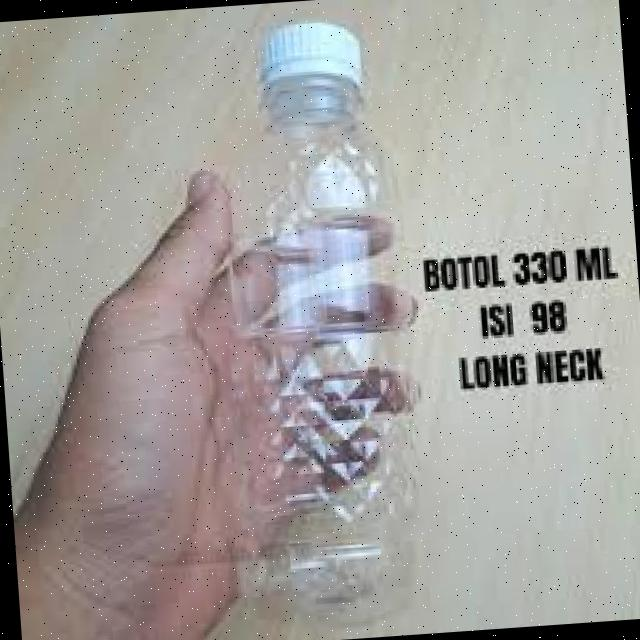bottle: (200, 9, 462, 624)
cap: (250, 14, 366, 92)
